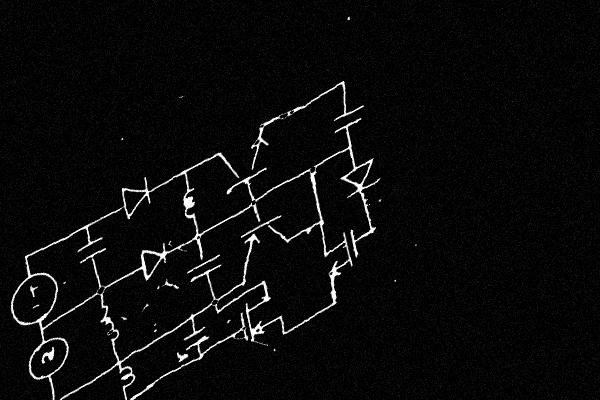capacitor: (183, 246, 225, 291), (329, 98, 369, 141), (74, 227, 109, 272), (181, 319, 211, 356)
diode: (336, 150, 386, 204), (114, 171, 156, 225), (132, 236, 172, 287)
inductor: (93, 292, 123, 354), (178, 181, 203, 226), (115, 358, 139, 396)
signal: (23, 326, 75, 390)
voltage: (5, 258, 65, 338)
